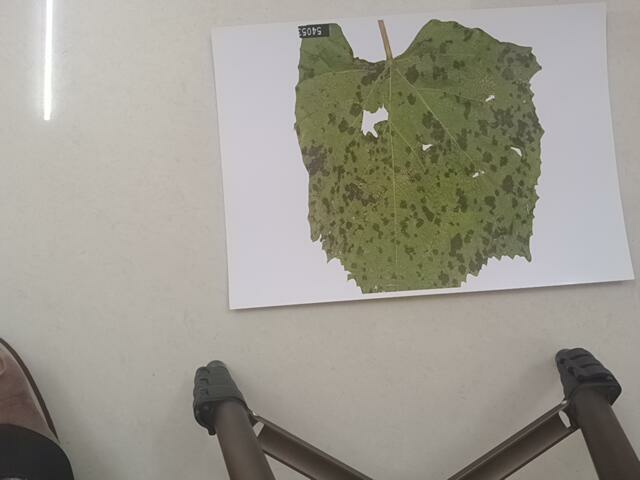Grape_Blight_Leaf: (275, 17, 551, 285)
